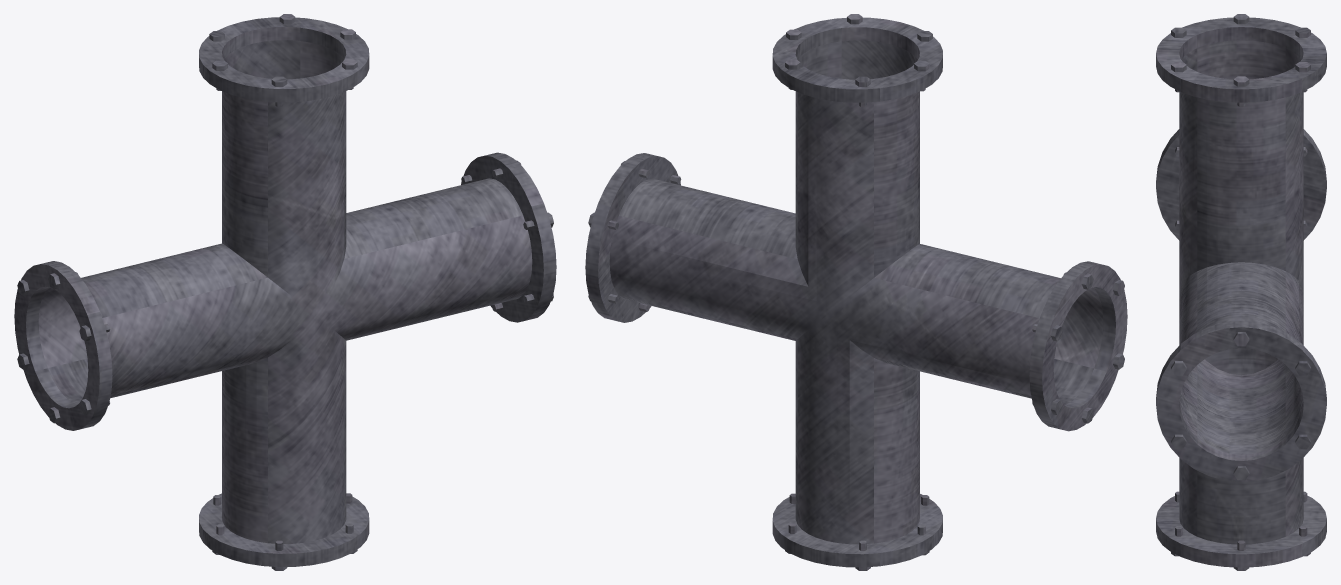
File: Pipe_X.fbx
3 views of the same model, side by side, from view 1: azimuth 30°, elevation 25°; view 2: azimuth 150°, elevation 25°; view 3: azimuth 270°, elevation 25° (orthographic).
Visible parts, largest first — view 1: Pipe X; view 2: Pipe X; view 3: Pipe X.
Boxes of the visible parts, x1,y1,x2,y2 form: Pipe X: [14, 14, 556, 570]; Pipe X: [585, 14, 1127, 570]; Pipe X: [1156, 14, 1326, 570].
Size of the model in its own units: 866 by 866 by 274.
